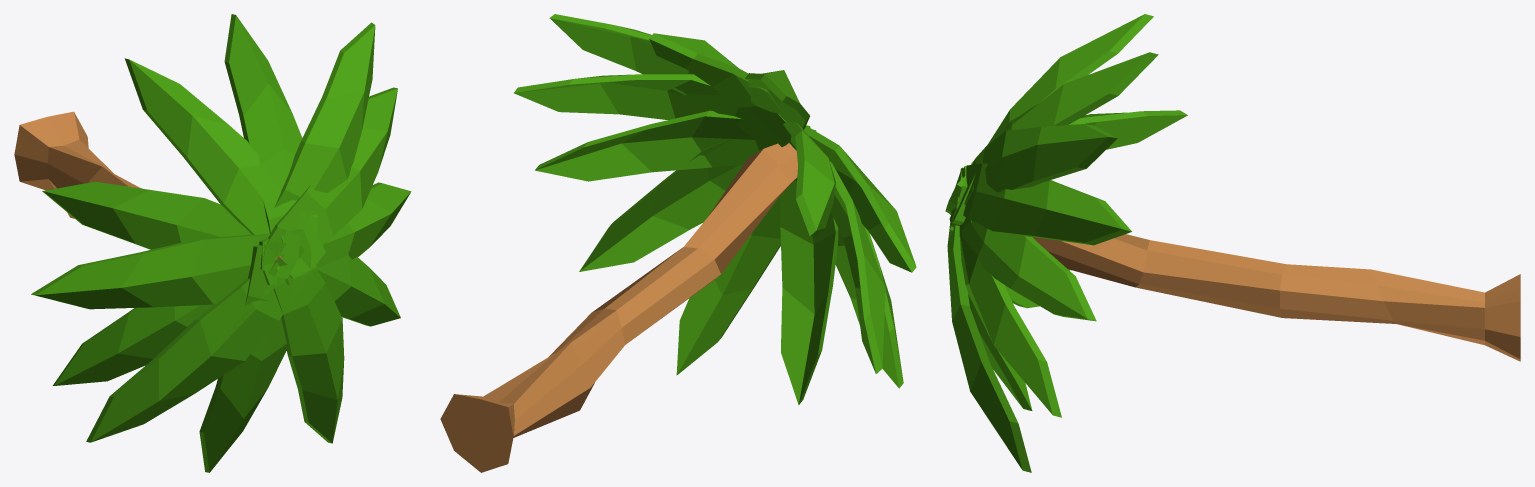
The model's file is Palm Tree 3.fbx.
The picture shows the model from 3 angles, left to right: view 1: azimuth 30°, elevation 25°; view 2: azimuth 150°, elevation 25°; view 3: azimuth 270°, elevation 25°; orthographic projection. The views are drawn at different scales.
Visible parts, largest first — view 1: Palm Tree 3; view 2: Palm Tree 3; view 3: Palm Tree 3.
Boxes of the visible parts, x1,y1,x2,y2 form: Palm Tree 3: (14, 14, 411, 472); Palm Tree 3: (440, 14, 916, 472); Palm Tree 3: (945, 14, 1520, 472).
Size of the model in its own units: 754 by 745 by 962.
1 material, 1 textured.
